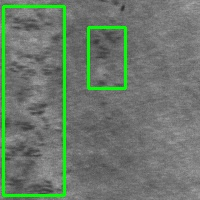rolled-in_scale: (3, 6, 64, 195), (88, 27, 125, 88)
